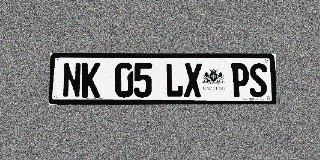0: (115, 63, 133, 97)
5: (134, 63, 152, 97)
K: (82, 63, 100, 98)
L: (165, 63, 183, 97)
N: (62, 63, 81, 98)
P: (231, 63, 249, 97)
S: (249, 63, 267, 97)
X: (184, 63, 202, 97)
